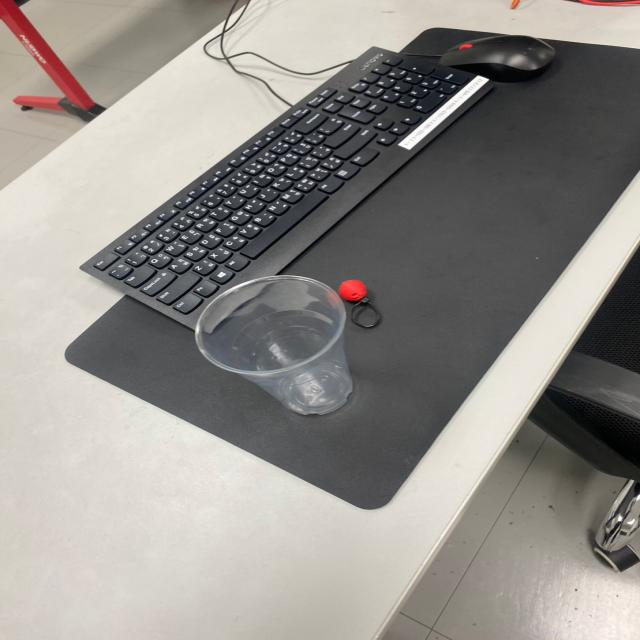glass: (190, 269, 373, 422)
